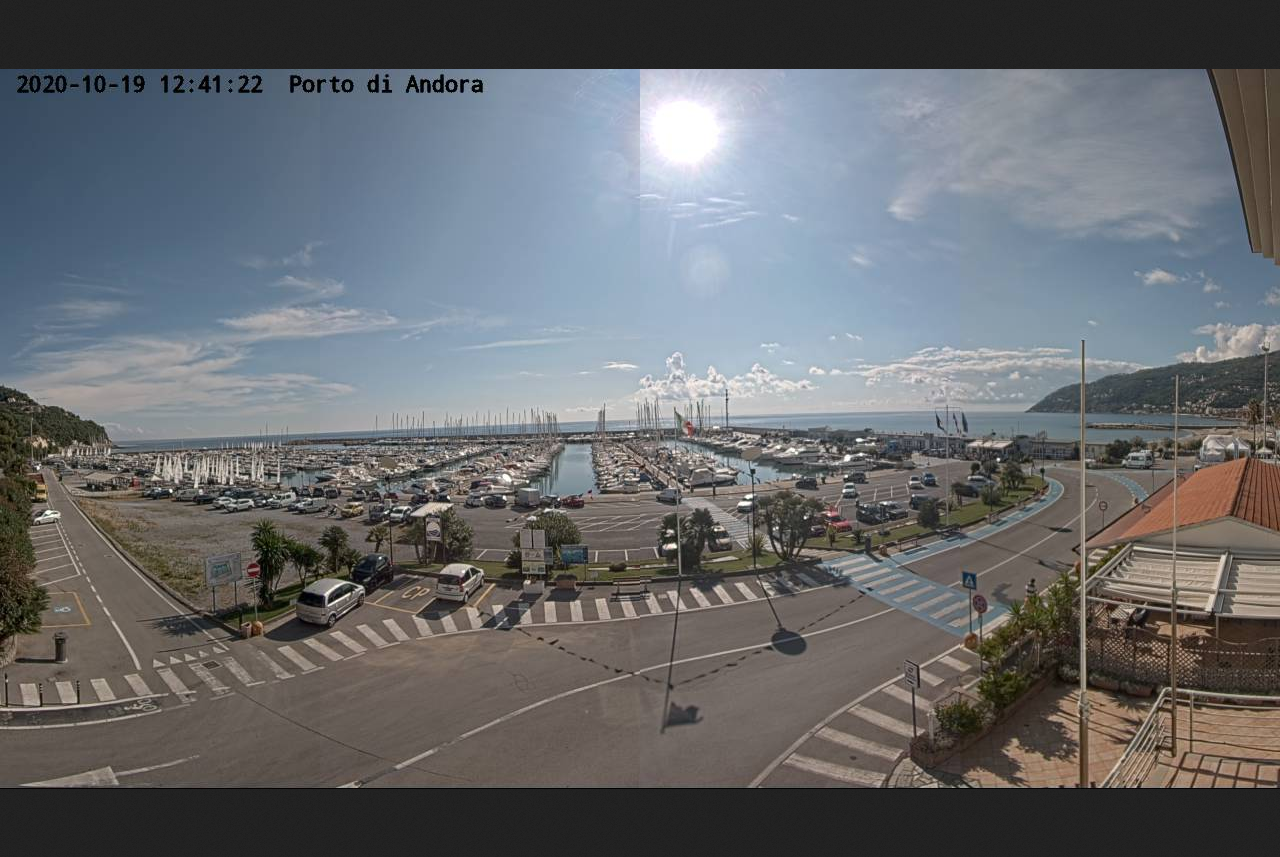maybe: (933, 412, 951, 438), (676, 410, 693, 435), (961, 412, 971, 433)
